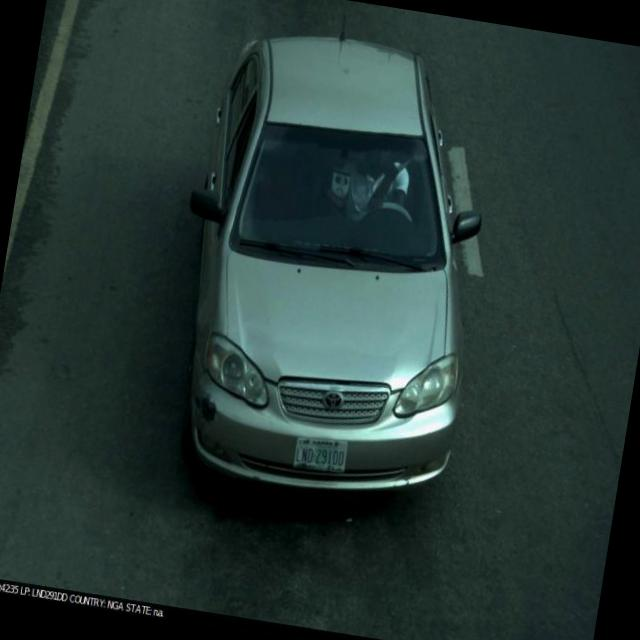person_with_seatbelt: (326, 132, 426, 253)
